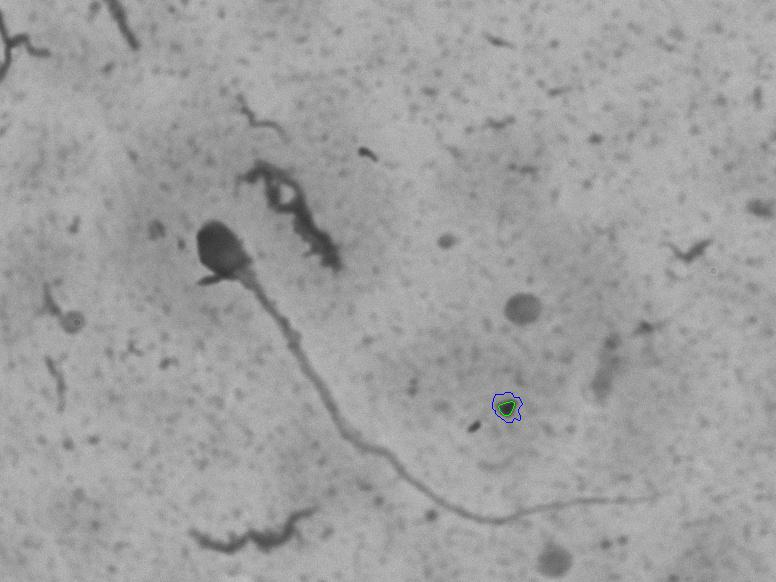Abnormal: (171, 193, 685, 537)
